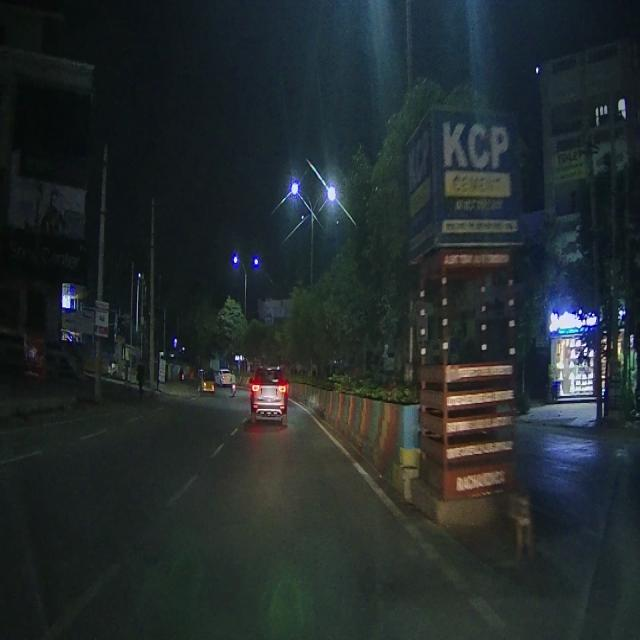barrier ahead at: (402, 111, 532, 539)
car ahead at: (244, 358, 291, 424)
